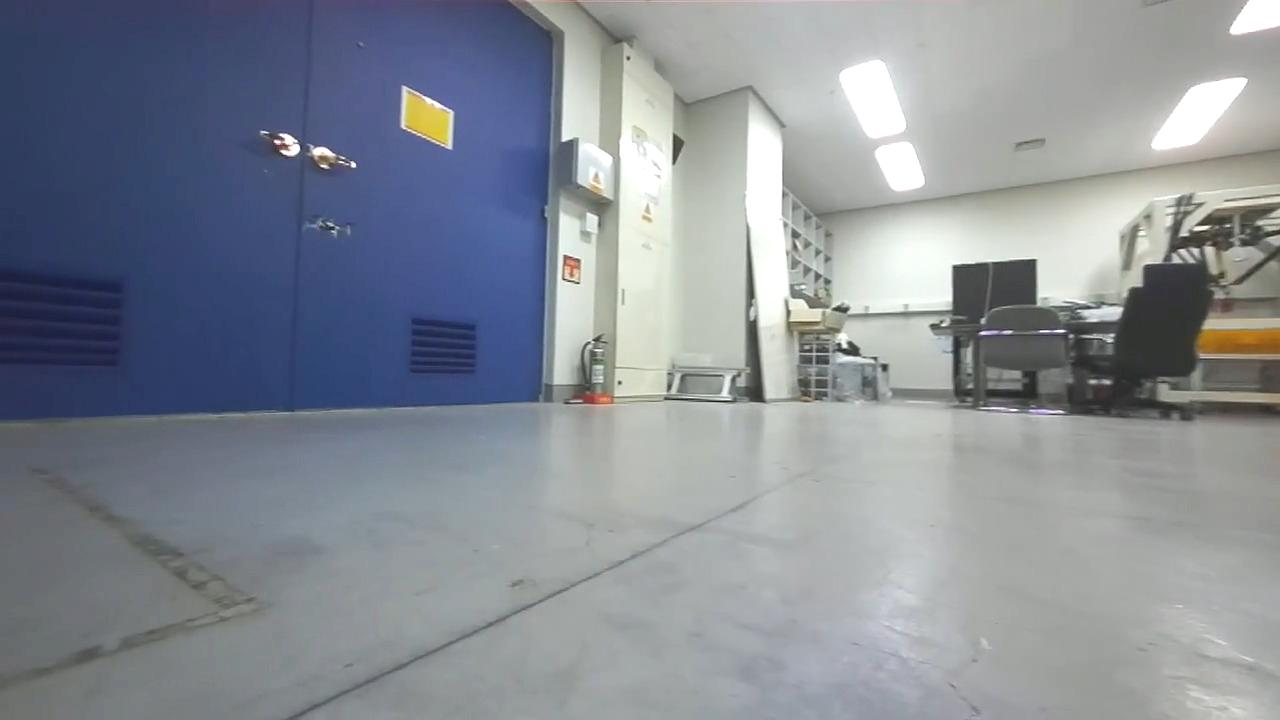crazyflie: (294, 208, 361, 243)
